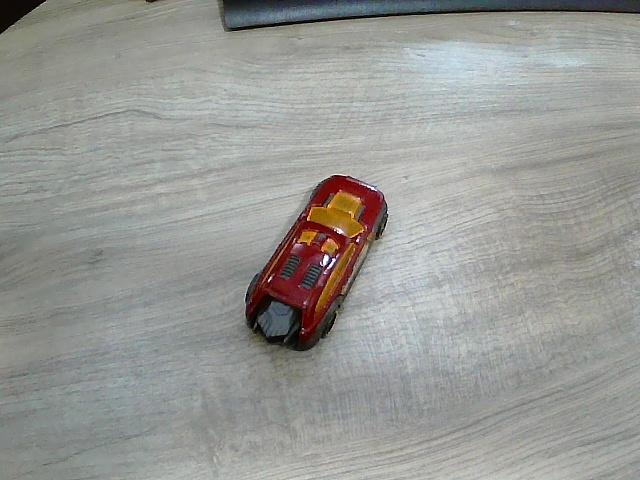Carro: (245, 176, 389, 353)
